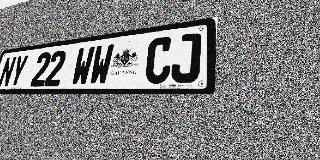2: (44, 50, 67, 86), (30, 51, 52, 87)
C: (144, 36, 174, 84)
J: (170, 32, 202, 83)
N: (0, 56, 17, 88)
W: (88, 43, 115, 85), (70, 46, 96, 86)
Y: (8, 54, 29, 87)
